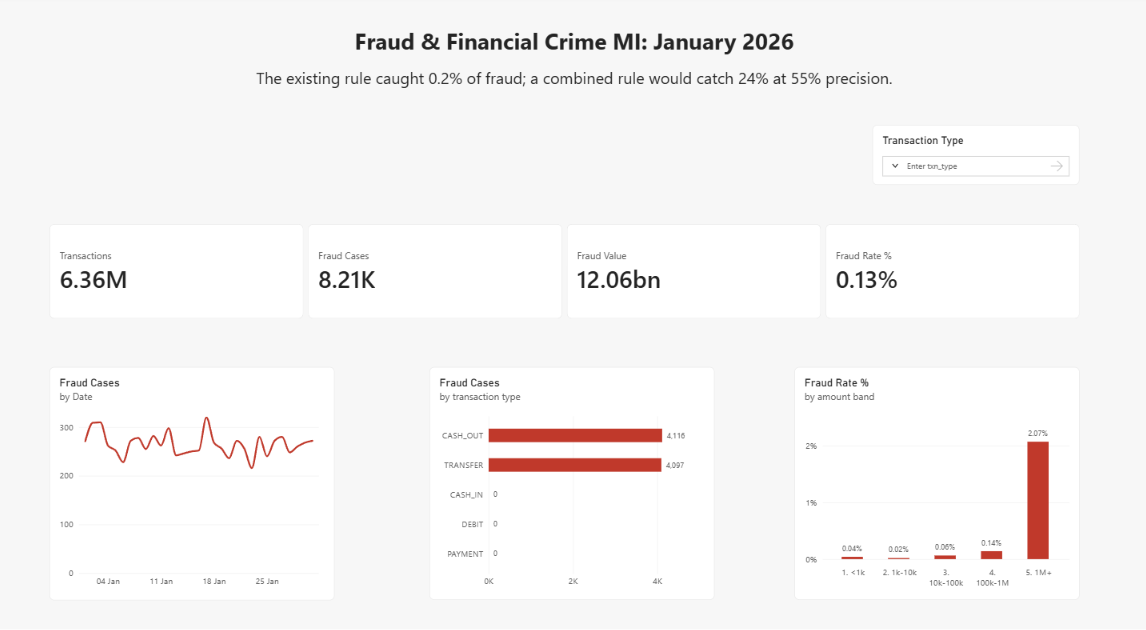

The page's visual inventory and layout, read from the dashboard file:
{"tool":"powerbi","page":{"name":"Executive summary","canvas":[1920,1080],"ordinal":0},"visuals":[{"type":"cardVisual","fields":{"Data":["_Measures.Transactions","_Measures.Fraud Cases","_Measures.Fraud Value","_Measures.Fraud Rate %"]},"box":[87,380.6,1720.4,158.8],"z":0},{"type":"lineChart","fields":{"Category":["Dim_Date.Date"],"Y":["_Measures.Fraud Cases"]},"box":[87,619.8,476.3,389.3],"z":1},{"type":"clusteredBarChart","title":"Fraud Cases","fields":{"Category":["Dim_Type.txn_type"],"Y":["_Measures.Fraud Cases"]},"box":[722.1,619.8,476,389],"z":2},{"type":"clusteredColumnChart","title":"Fraud Rate %","fields":{"Category":["daily_summary.amount_band"],"Y":["_Measures.Fraud Rate %"]},"box":[1331,619.8,476,389],"z":3},{"type":"textSlicer","title":"Transaction Type","fields":{"Values":["Dim_Type.txn_type"]},"box":[1461.5,215.3,345.8,100],"z":4},{"type":"textbox","box":[4.3,13,1916.1,150.1],"z":5}]}

Visuals, with their boxes in screenshot pixels (x1, y1, x2, y2), scaled from the page's 1920x1080 canvas onto the 1146x630 screenshot:
cardVisual - _Measures.Transactions x _Measures.Fraud Cases: l=52, t=222, r=1079, b=315
lineChart - Dim_Date.Date x _Measures.Fraud Cases: l=52, t=362, r=336, b=589
"Fraud Cases" clusteredBarChart: l=431, t=362, r=715, b=588
"Fraud Rate %" clusteredColumnChart: l=794, t=362, r=1079, b=588
"Transaction Type" textSlicer: l=872, t=126, r=1079, b=184
textbox: l=3, t=8, r=1145, b=95
